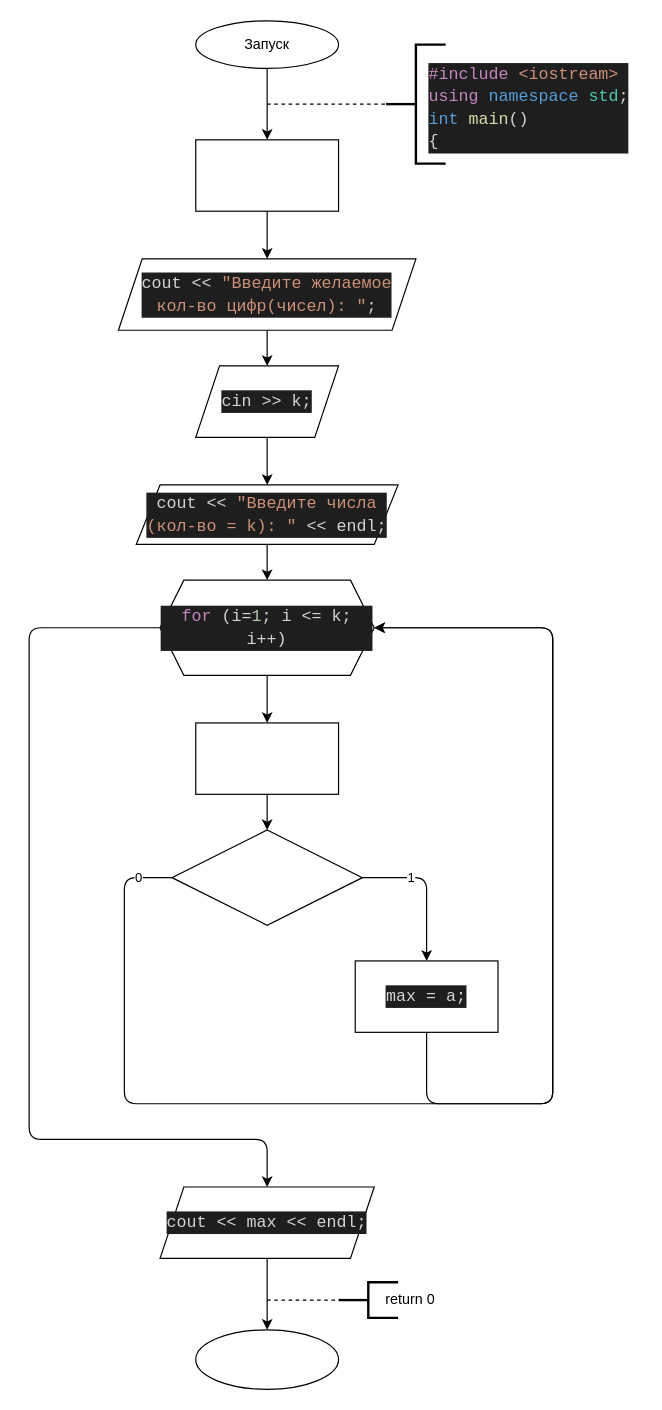
Image size: 662x1410. Some labels were removed from this diagram. Here are the shapes that lost their labels. From the top down, the box of each, then its label:
(195, 139, 339, 211): int k,i, a,max= 0 ;
(195, 722, 339, 794): cin >> a;
(171, 829, 362, 925): if (max < a)
(195, 1329, 339, 1389): Конец
